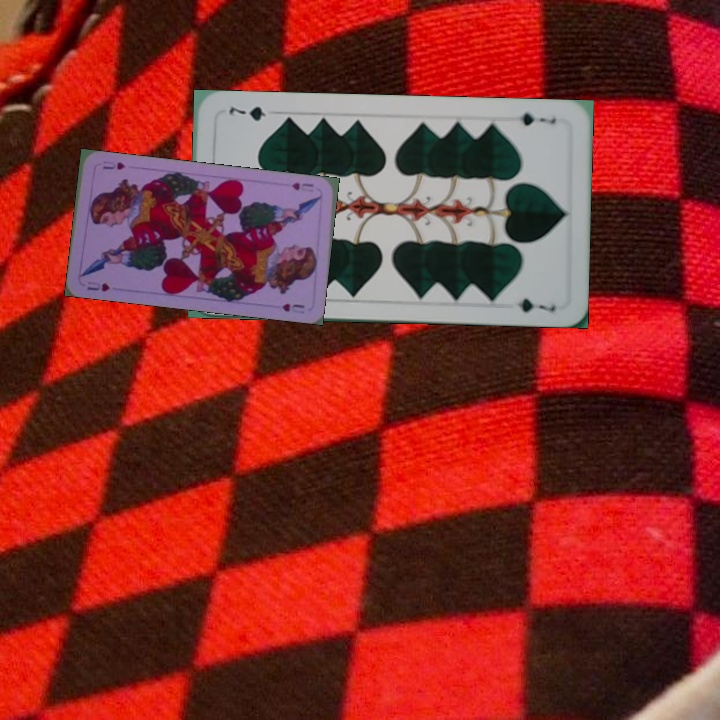G7: (508, 109, 559, 128)
HU: (83, 277, 112, 294), (288, 179, 316, 195)
